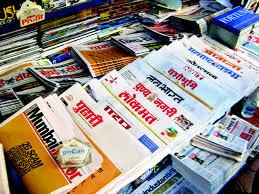Printing industry: (2, 1, 259, 194)
